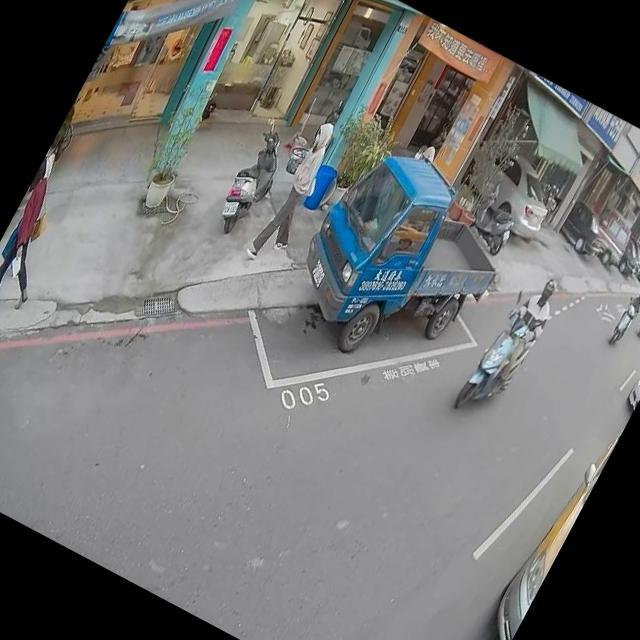person: (240, 104, 354, 270), (0, 148, 96, 325), (0, 113, 96, 287), (472, 265, 568, 400), (409, 138, 430, 164), (624, 283, 640, 314), (420, 143, 439, 164)
